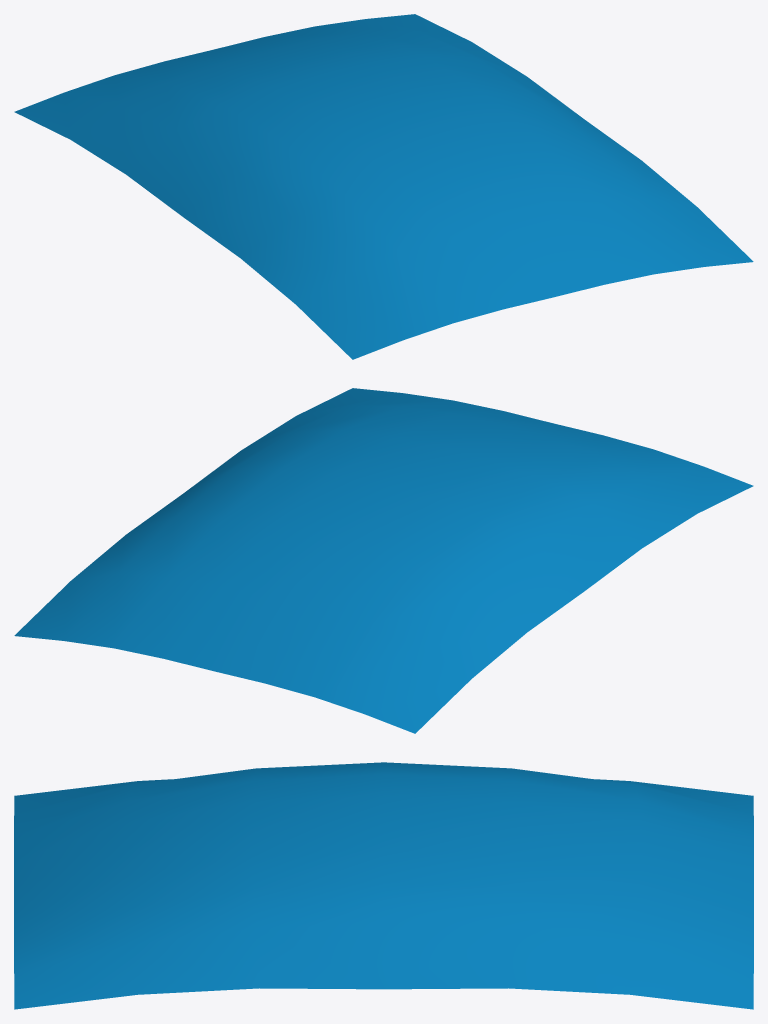
The model's file is Card_Ground01.fbx.
The picture shows the model from 3 angles, top to bottom: view 1: azimuth 30°, elevation 25°; view 2: azimuth 150°, elevation 25°; view 3: azimuth 270°, elevation 25°; orthographic projection. The views are drawn at different scales.
Parts seen in each view (by area): view 1: Card_Ground; view 2: Card_Ground; view 3: Card_Ground.
Part boxes in pixels (x1,y1,x2,y2): Card_Ground: (14, 14, 753, 359); Card_Ground: (14, 388, 753, 733); Card_Ground: (14, 762, 753, 1009).
Size of the model in its own units: 1.01 by 0.1821 by 1.48.
